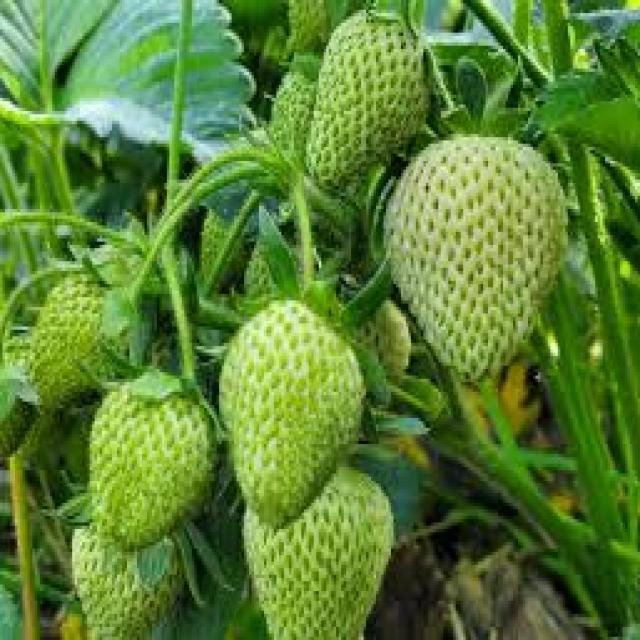strawberry: (384, 137, 565, 380), (220, 302, 364, 524), (242, 464, 394, 640), (90, 371, 214, 541), (308, 10, 425, 183), (30, 270, 138, 409), (73, 510, 178, 640)
